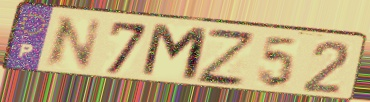2: (301, 39, 354, 97)
5: (254, 34, 302, 89)
7: (106, 19, 150, 77)
M: (137, 21, 212, 85)
N: (40, 15, 105, 71)
Z: (195, 25, 256, 88)
